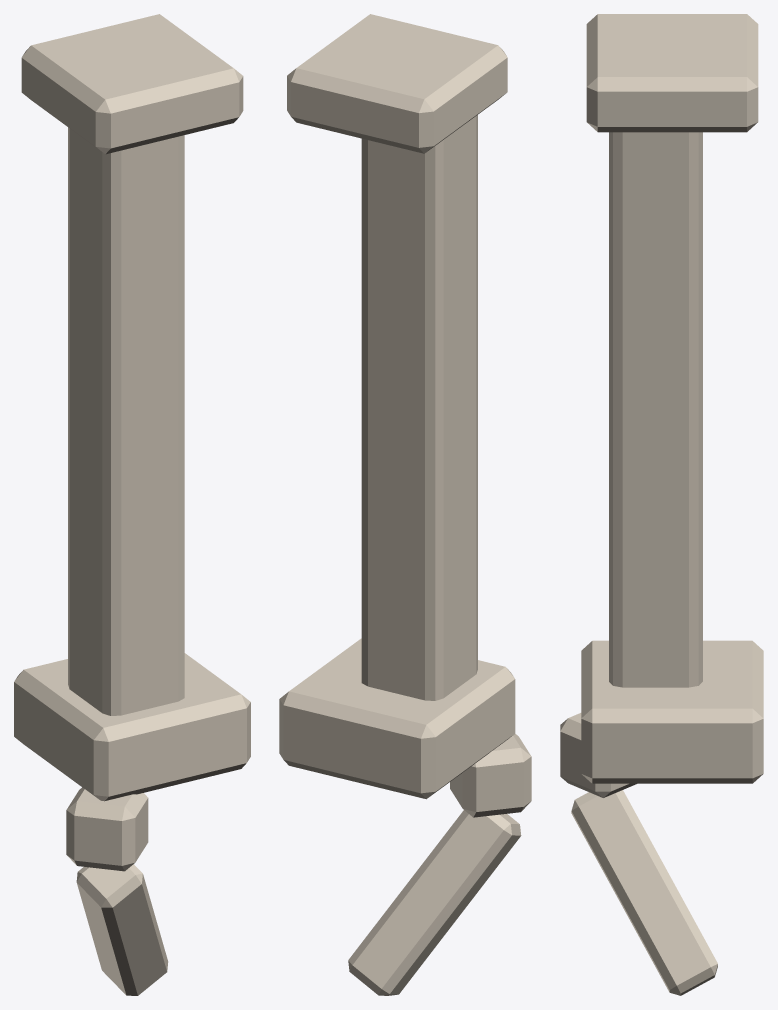
Rendered from SM_VK_Corner_Timber.fbx.
3 views of the same model, side by side, from view 1: azimuth 30°, elevation 25°; view 2: azimuth 150°, elevation 25°; view 3: azimuth 270°, elevation 25° (orthographic).
Parts seen in each view (by area): view 1: SM_VK_Corner_Timber.001; view 2: SM_VK_Corner_Timber.001; view 3: SM_VK_Corner_Timber.001.
Boxes of the visible parts, x1,y1,x2,y2 form: SM_VK_Corner_Timber.001: [14, 14, 250, 995]; SM_VK_Corner_Timber.001: [279, 14, 531, 995]; SM_VK_Corner_Timber.001: [560, 14, 763, 995].
Bounding box in the file's own units: 0.7356 × 3.78 × 0.7356.
